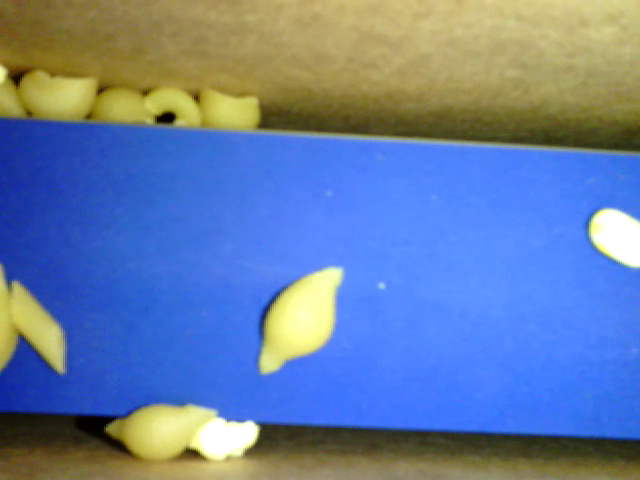elbow: (144, 86, 202, 127)
penne: (9, 277, 65, 375)
shell: (258, 265, 343, 376), (105, 404, 216, 462), (18, 71, 97, 123), (90, 85, 156, 129), (198, 88, 261, 130)
